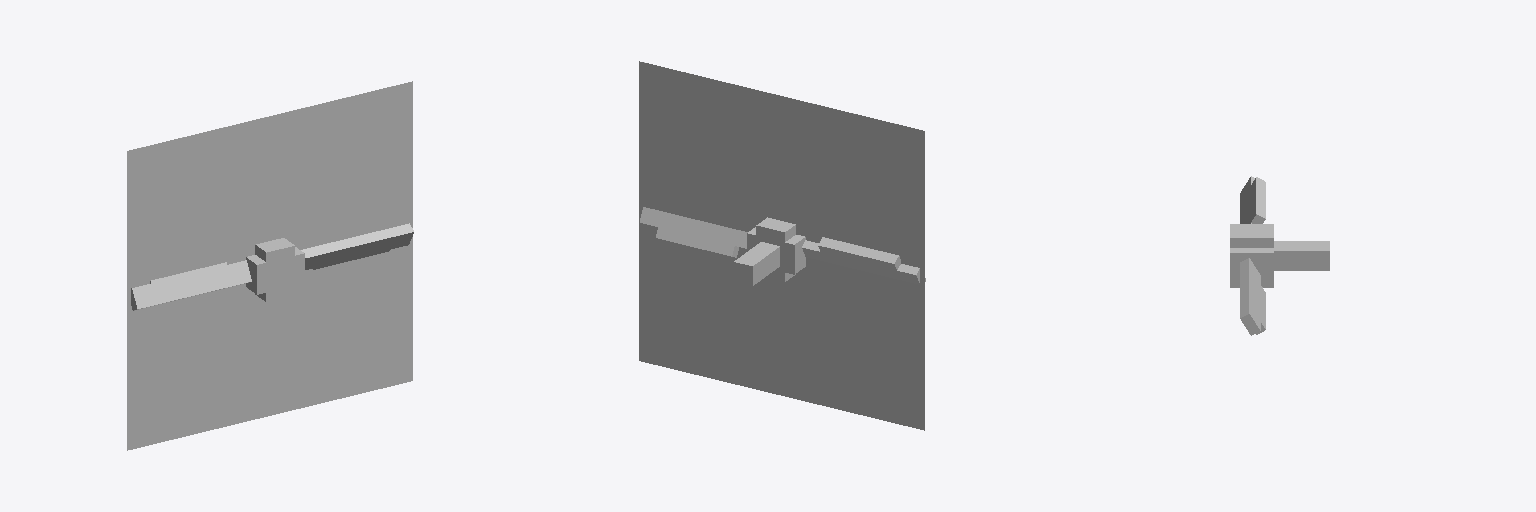
Rendered from propellersmall2blade.obj.
The picture shows the model from 3 angles: view 1: azimuth 30°, elevation 25°; view 2: azimuth 150°, elevation 25°; view 3: azimuth 270°, elevation 25°; orthographic projection.
Parts seen in each view (by area): view 1: #translucent_2blade_mblur, propellersmall2blade; view 2: #translucent_2blade_mblur, propellersmall2blade; view 3: propellersmall2blade.
Boxes of the visible parts, x1,y1,x2,y2 form: #translucent_2blade_mblur: [127, 81, 412, 450]; propellersmall2blade: [131, 223, 413, 310]; #translucent_2blade_mblur: [639, 61, 924, 430]; propellersmall2blade: [640, 207, 925, 285]; propellersmall2blade: [1230, 176, 1329, 335].
Size of the model in its own units: 1.88 by 1.88 by 0.5625.